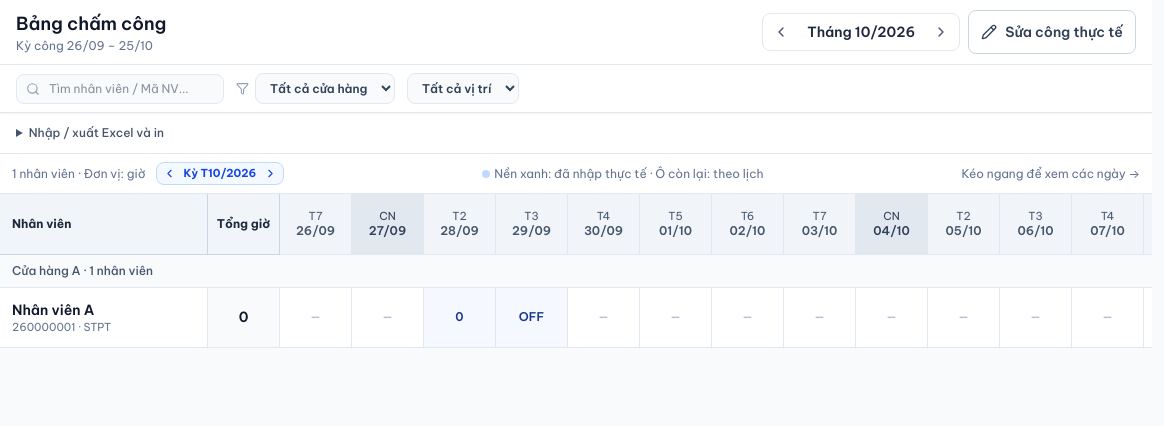
preserves 0/OFF and counts only overrides in the visible month
Click the button "Sửa công thực tế" at (1052, 32), box [968, 10, 1136, 54]
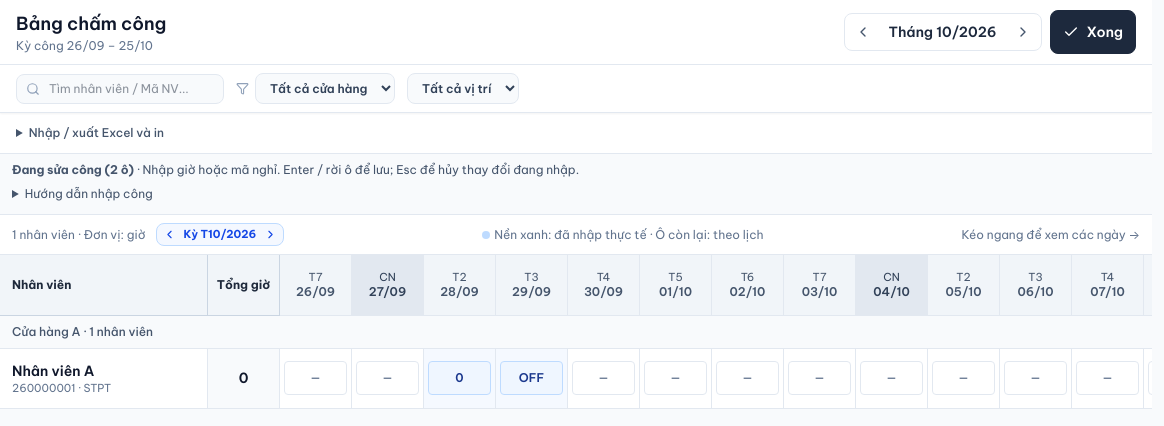
Expected: the text "Đang sửa công (2 ô)" is shown, [12, 162, 134, 177]
Expected: the field named "Công thực tế 260000001 ngày T2 28/09" holds "0", [428, 361, 491, 395]
Expected: the field named "Công thực tế 260000001 ngày T3 29/09" holds "OFF", [500, 361, 563, 395]
